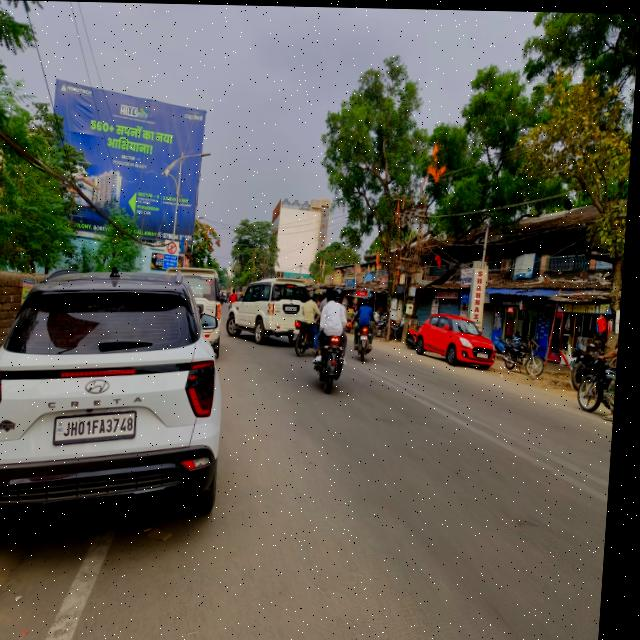bike: (317, 323, 353, 401), (581, 349, 622, 416), (505, 327, 552, 377), (294, 315, 323, 359), (359, 319, 379, 362)
car: (0, 269, 233, 564), (231, 272, 316, 346), (420, 305, 503, 378), (171, 264, 228, 356)
